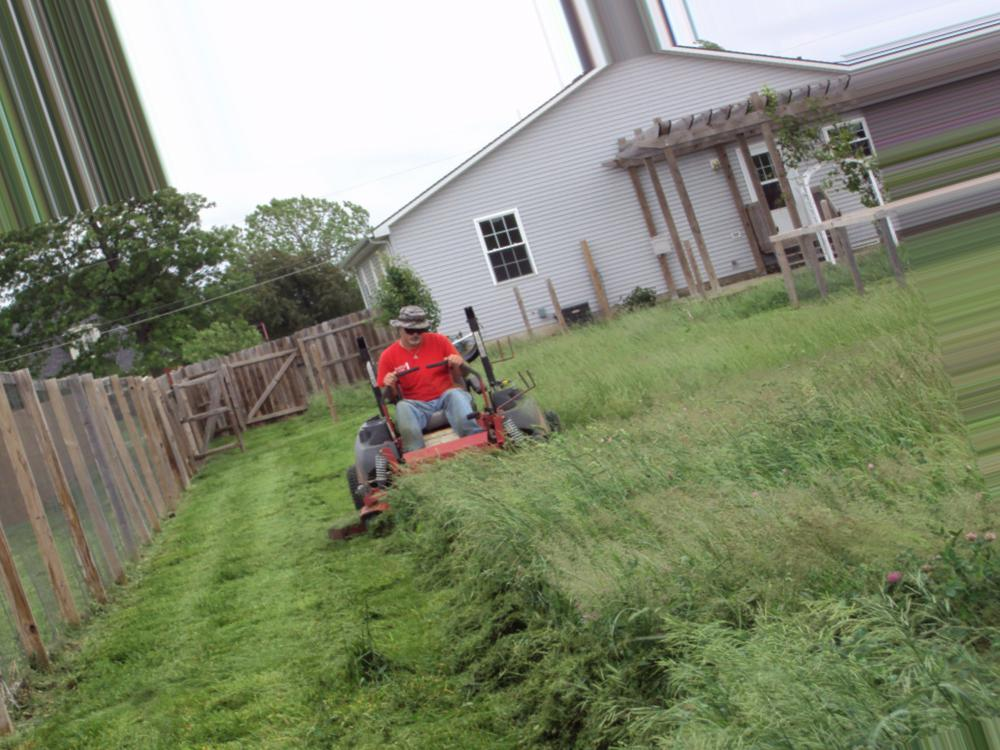patch: (21, 495, 39, 508)
